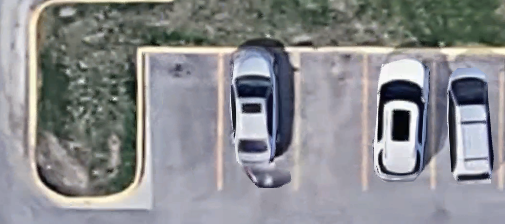Occupied: (220, 52, 297, 191), (432, 53, 501, 192), (365, 52, 433, 191)
Vacant: (143, 52, 220, 191), (297, 52, 365, 191)
